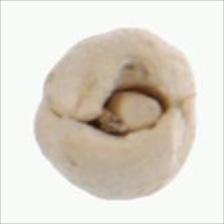L3: (83, 82, 172, 142)
L4: (32, 27, 197, 201)
